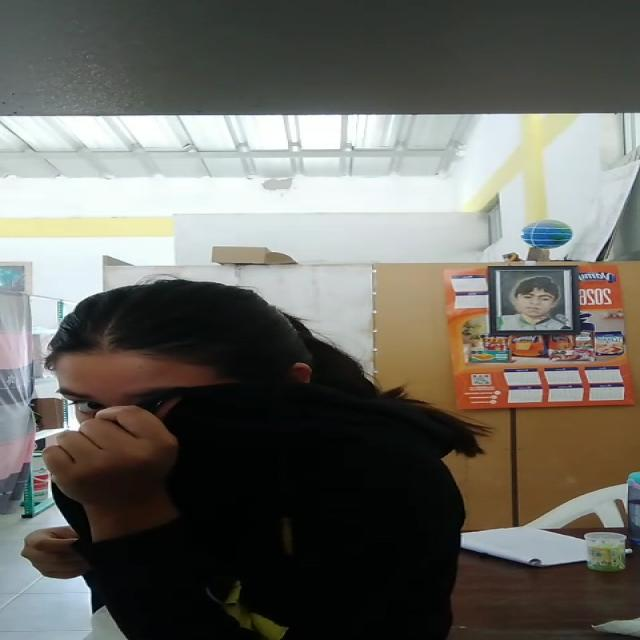8_ropa_rostro: (38, 383, 349, 502)
